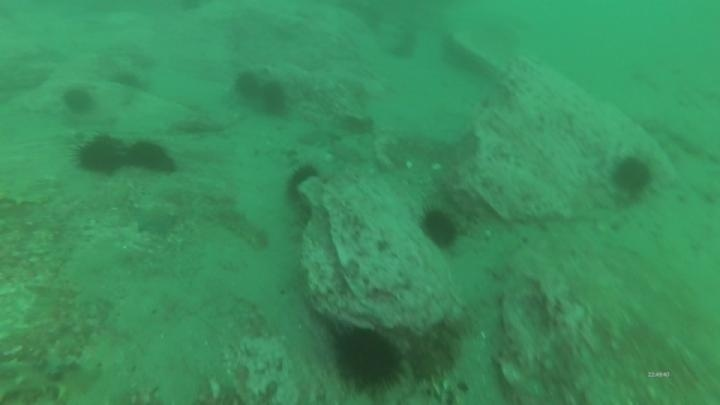echinus: (328, 323, 407, 394), (73, 133, 126, 177), (418, 206, 462, 252), (125, 138, 178, 176), (609, 154, 655, 197), (282, 162, 321, 205), (257, 79, 291, 118), (60, 85, 97, 117), (232, 69, 264, 102)
holothurian: (0, 352, 104, 403), (211, 199, 271, 251)
starfish: (131, 201, 180, 238)
